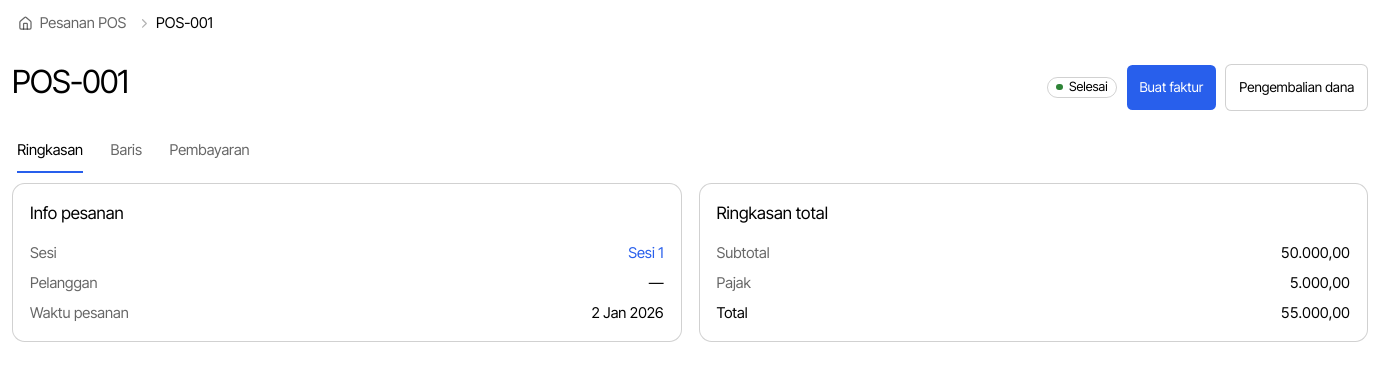
PosOrderDetail › shows payments on the payments tab
Expected: the heading "POS-001" is shown, x1=12 y1=64 x2=128 y2=100
Click the tab "Pembayaran" at (210, 151), box x1=168 y1=128 x2=251 y2=174
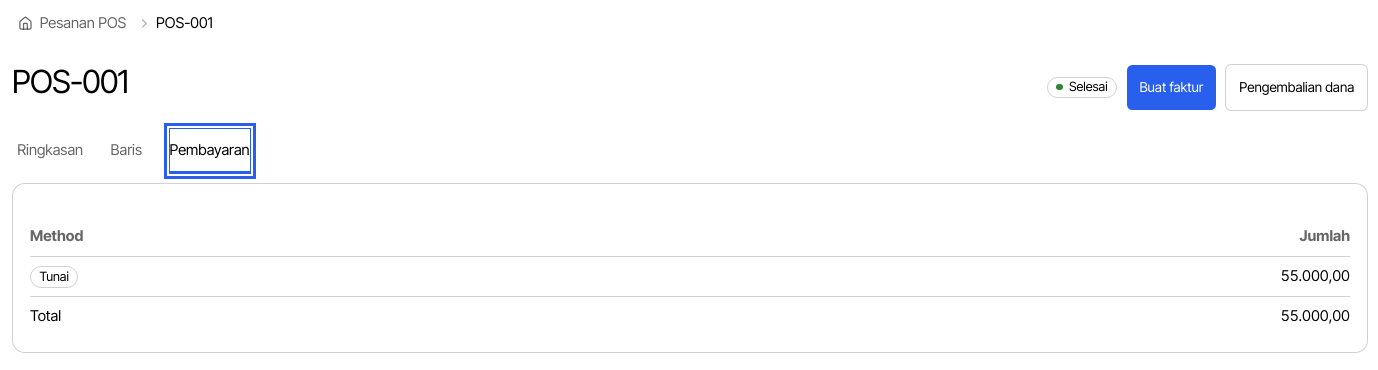
Now the icon "Tunai" is shown, box x1=30 y1=266 x2=78 y2=288
